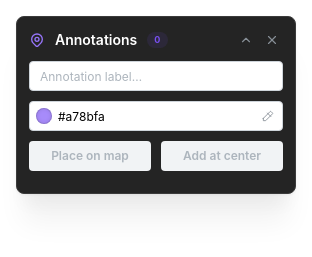
Test: AnnotatePanel › starts a placement on MapLibre instead of reporting no viewer
Type "Site A" into the field with placeholder "Annotation label…" at (156, 76), box 29,61 -> 283,91
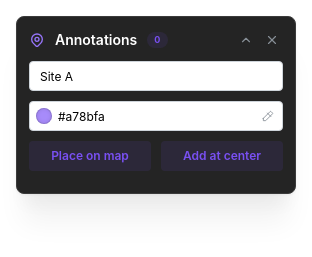
Click the button "Place on map" at (90, 156), box 29,141 -> 151,171
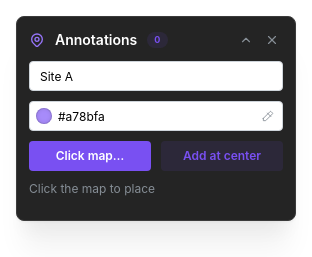
Expected: the text with test id "annotate-status" reads "Click the map to place", 29,181 -> 155,196
